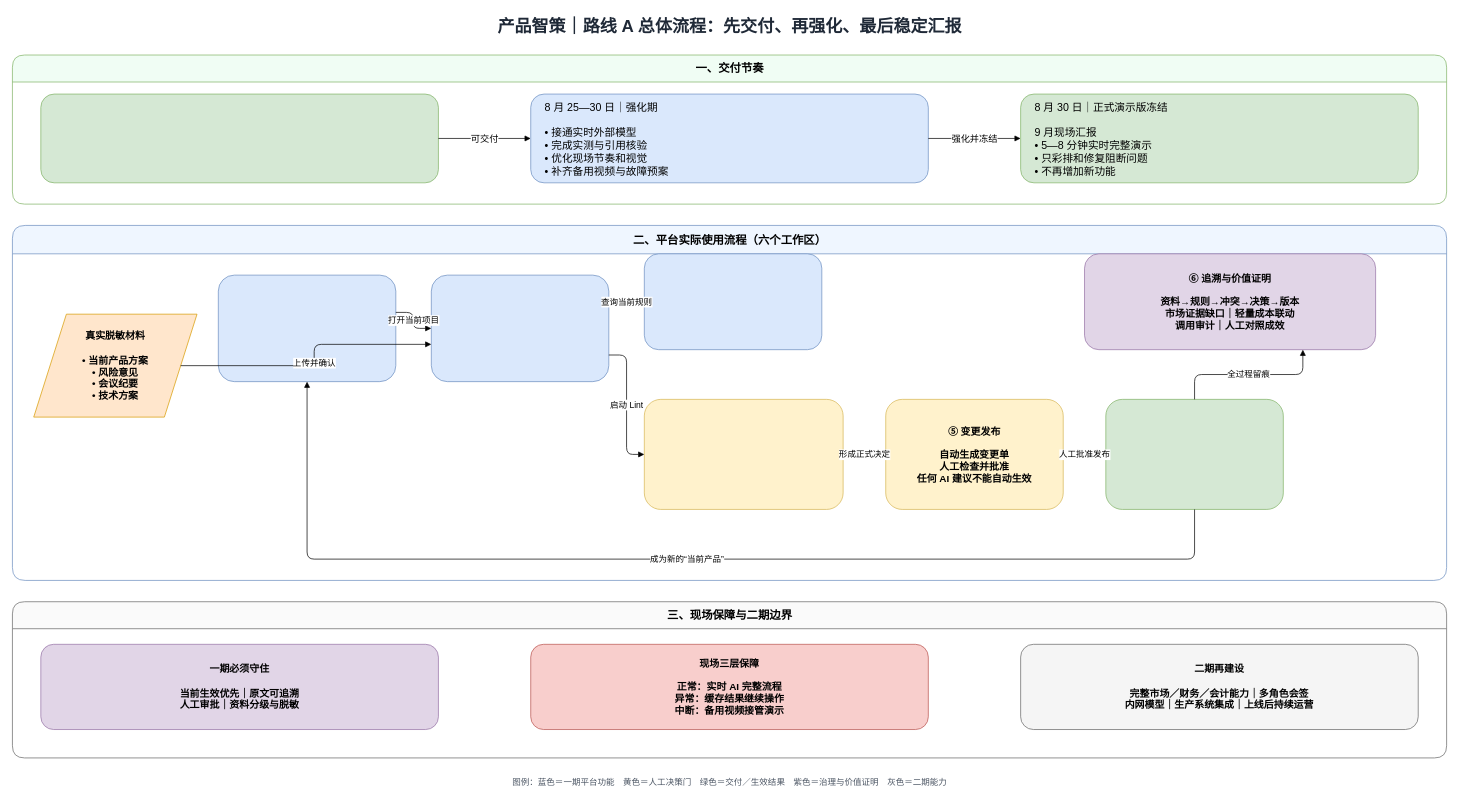
Some shapes in this 1459 by 805 pixel diagram are drawn without their labels. The centre of each missing label's shape, as x and y in pixels:
"8 月 24 日｜轻量交付版 • 六个工作区可运行 • 核心闭环真实贯通 • 固定样例＋缓存兜底 • 提交材料形成初版" belongs at point (239, 138).
"① 项目首页与当前基线 先看清： “现在生效的产品是什么” 版本、冲突、候选变化一屏掌握" belongs at point (307, 328).
"② 资料导入 人工确认材料类型、权威和安全标签 AI 完成抽取、比较与知识编译" belongs at point (520, 328).
"③ 当前产品查询 直接答案＋当前规则 原文引用＋版本 候选／冲突提醒" belongs at point (733, 301).
"④ 一键自检与会议决策 发现跨材料、跨版本冲突 产品经理选择：接受／维持／暂缓／误报" belongs at point (743, 454).
"新产品基线 完整方案与规则卡同步更新 保留父版本、修改前后和批准记录" belongs at point (1194, 454).
